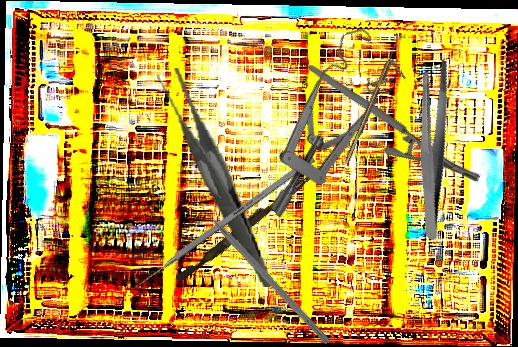Chopper: (192, 190, 339, 346)
Dressing Forceps: (155, 59, 273, 298), (377, 55, 488, 242)
Hook Surgical: (343, 41, 401, 164)
Needle Holder: (307, 23, 483, 222)
Pusher: (126, 154, 316, 296), (175, 160, 323, 287)
Speculum: (214, 19, 430, 219)
